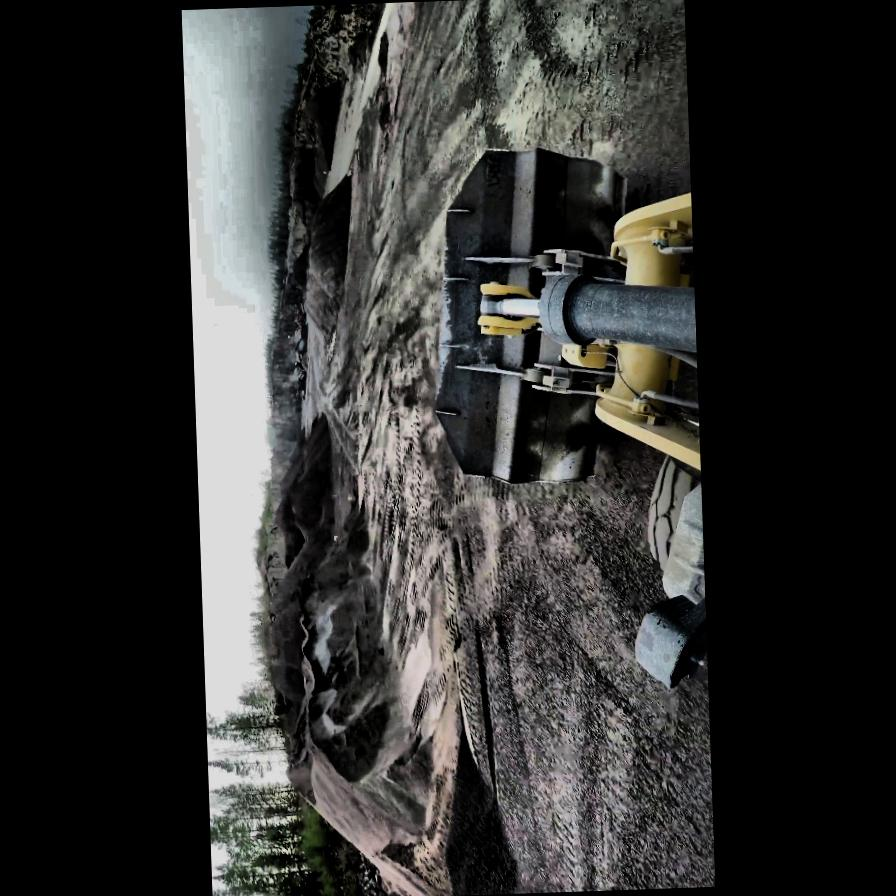anchor: (476, 280, 540, 336)
pile of gravel: (258, 448, 460, 896), (270, 418, 336, 564), (302, 172, 356, 340), (301, 81, 342, 167), (288, 144, 318, 226), (271, 488, 298, 546), (289, 240, 310, 292)
